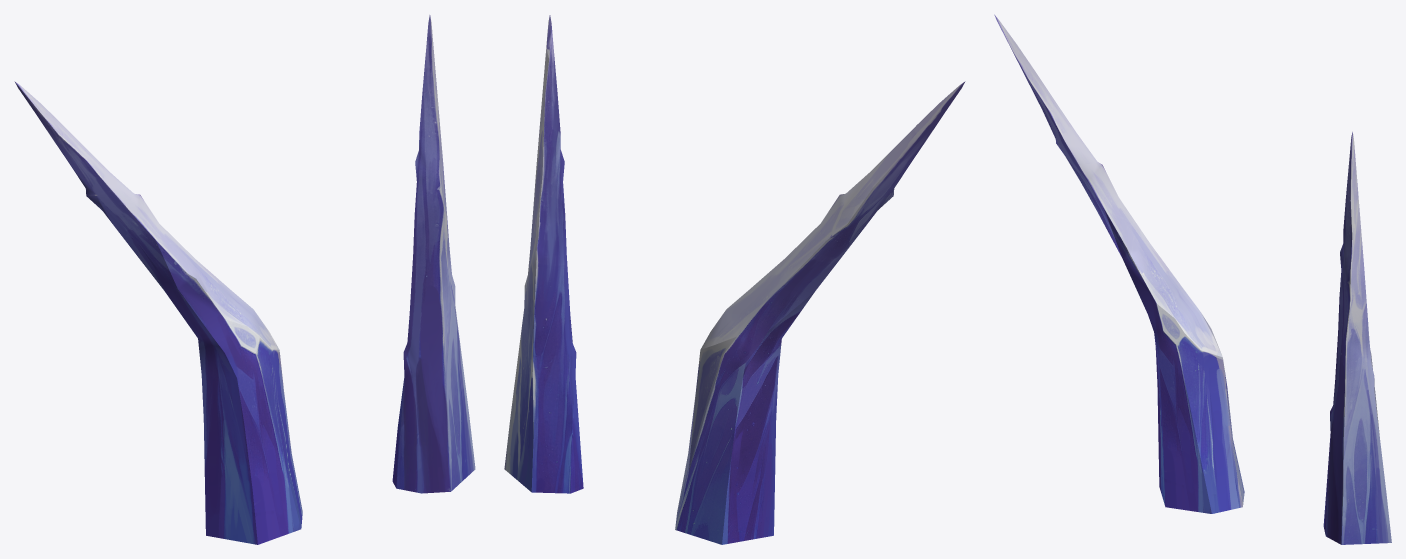
File: Ice 3.glb
The picture shows the model from 3 angles, left to right: view 1: azimuth 30°, elevation 25°; view 2: azimuth 150°, elevation 25°; view 3: azimuth 330°, elevation 25°; orthographic projection. The views are drawn at different scales.
Visible parts, largest first — view 1: A, B; view 2: A, B; view 3: A, B.
Boxes of the visible parts, left/top/right/bottom form: A: left=14, top=81, right=302, bottom=544; B: left=392, top=15, right=475, bottom=493; A: left=675, top=81, right=965, bottom=544; B: left=504, top=15, right=583, bottom=493; A: left=994, top=14, right=1244, bottom=513; B: left=1323, top=132, right=1391, bottom=544.
Size of the model in its own units: 1.43 by 1.48 by 0.2411.
1 material, 1 textured.
